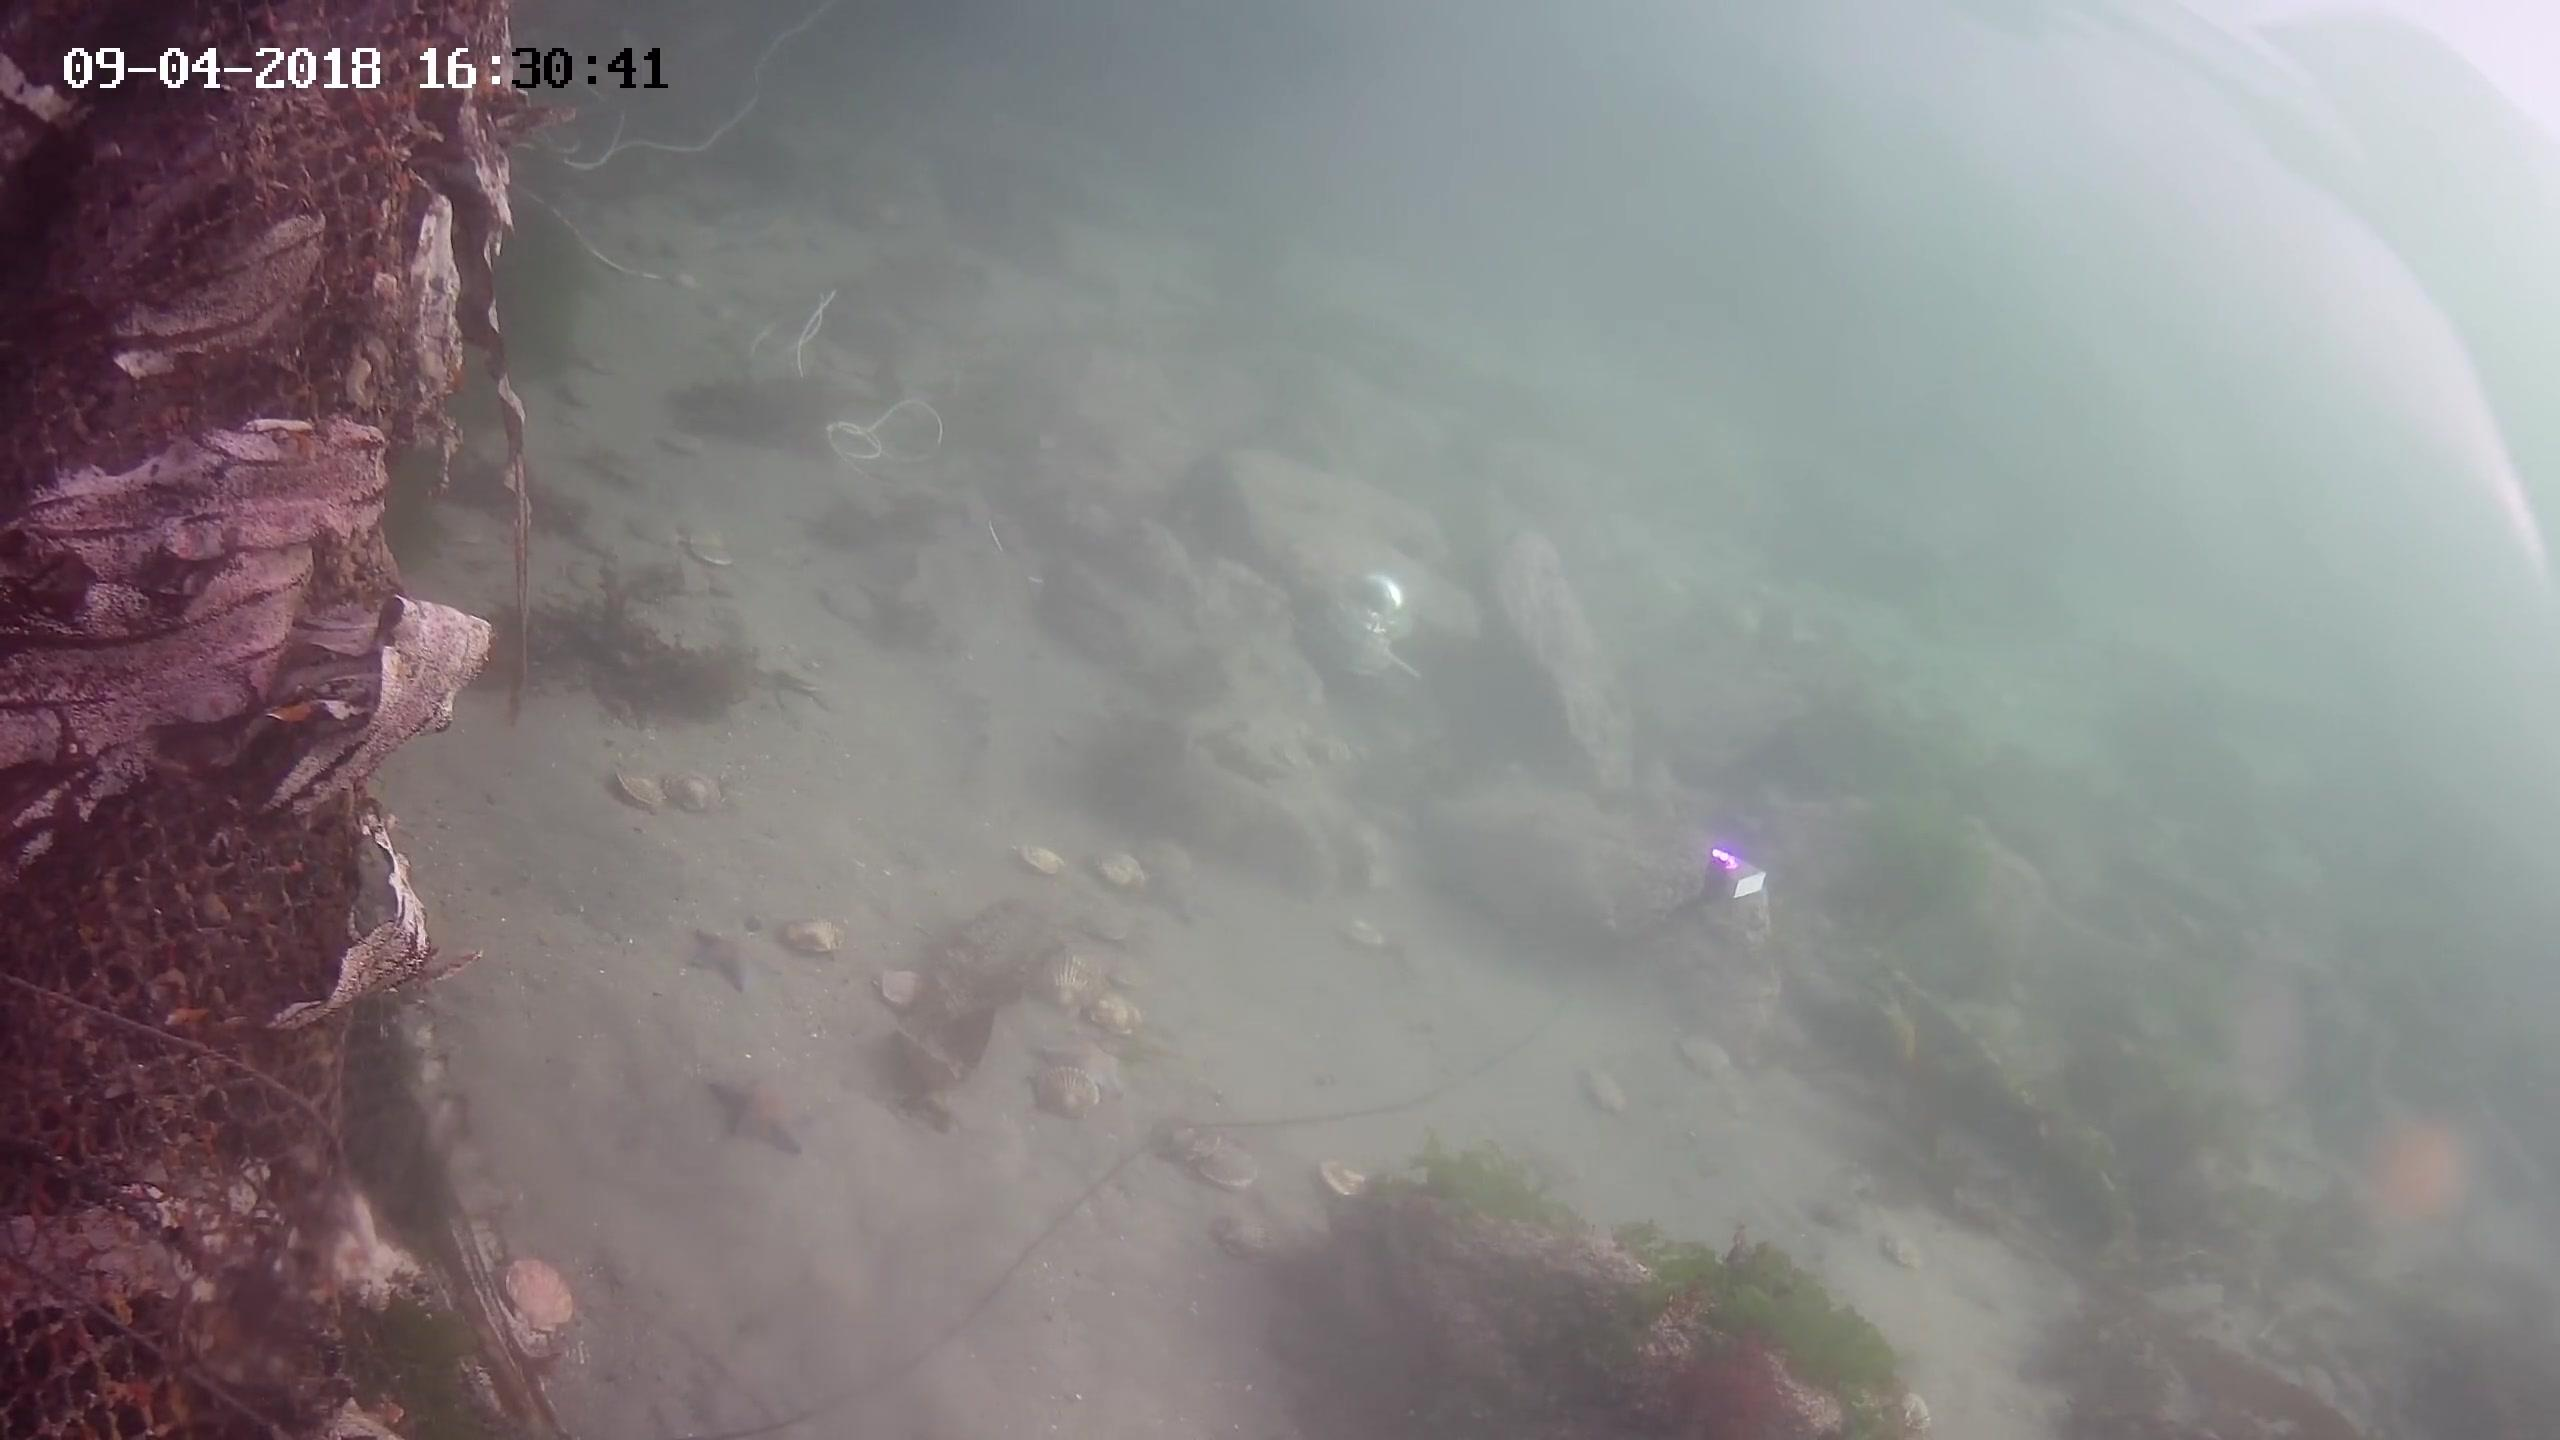scallop: (496, 1247, 585, 1343), (1313, 1146, 1389, 1210), (1034, 1067, 1102, 1134), (1155, 1109, 1233, 1162), (1036, 953, 1104, 1009), (779, 905, 844, 962), (1581, 1067, 1642, 1125), (675, 522, 740, 577), (809, 577, 876, 629), (881, 960, 944, 1015), (1806, 1187, 1864, 1245), (659, 761, 723, 812), (1672, 1025, 1737, 1074), (1201, 1146, 1266, 1194), (612, 761, 666, 816), (1092, 986, 1146, 1041), (1085, 849, 1138, 900), (1206, 1218, 1269, 1261), (1138, 840, 1196, 886), (1081, 900, 1146, 937), (1016, 839, 1073, 879), (1340, 916, 1391, 958), (1892, 1387, 1932, 1435), (1888, 1231, 1925, 1264)
starfish: (2338, 1092, 2504, 1254), (707, 1071, 825, 1162), (679, 918, 775, 997), (1020, 1027, 1120, 1099), (1206, 709, 1291, 784)
